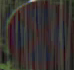No Stopping: (9, 4, 68, 62)
